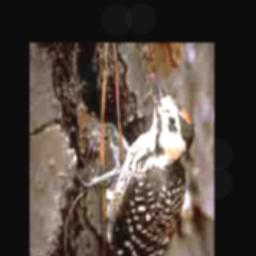Woodpecker: (83, 62, 193, 256)
